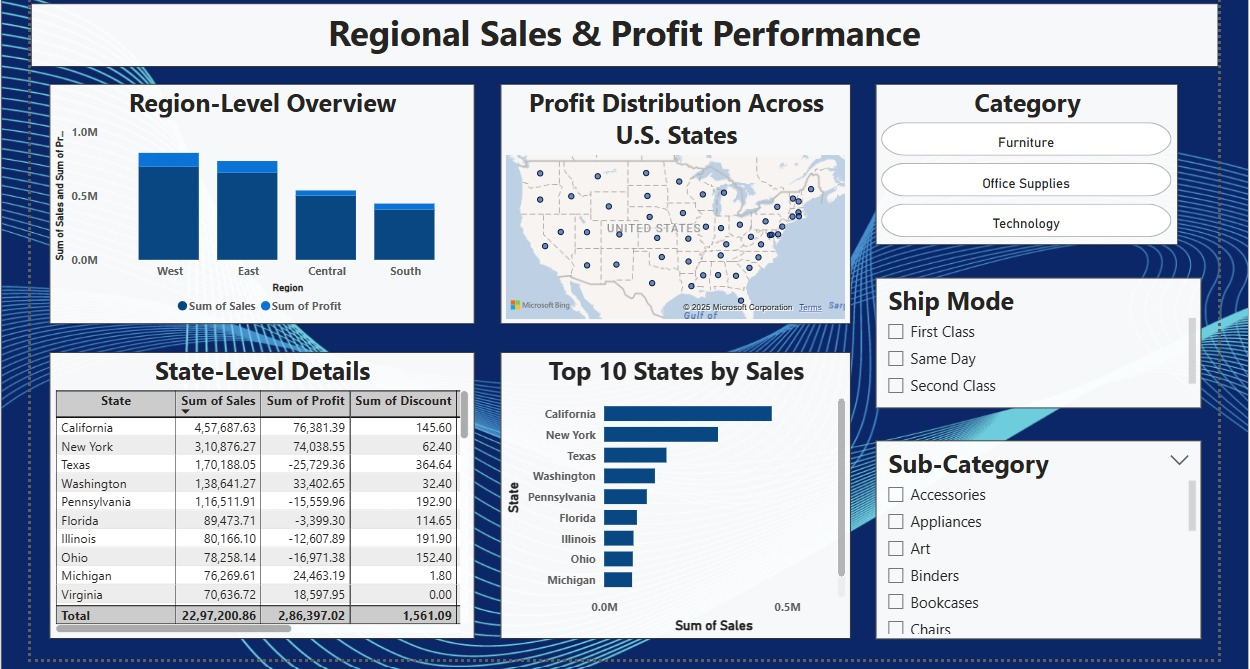

Layout of this report page (visuals, bound fields, positions):
{"tool":"powerbi","page":{"name":"Regional Sales & Profit Performance","canvas":[1280,720],"ordinal":2},"visuals":[{"type":"textbox","box":[0,13.4,1280,68.5],"z":0},{"type":"columnChart","title":"Region-Level Overview","fields":{"Category":["Sample - Superstore.Region"],"Y":["Sum(Sample - Superstore.Sales)","Sum(Sample - Superstore.Profit)"]},"box":[20.1,100.3,457.9,259],"z":1},{"type":"map","title":"Profit Distribution Across U.S. States","fields":{"Category":["Sample - Superstore.State"]},"box":[506.3,100.3,377.7,259],"z":2},{"type":"tableEx","title":"State-Level Details ","fields":{"Values":["Sample - Superstore.State","Sum(Sample - Superstore.Sales)","Sum(Sample - Superstore.Profit)","Sum(Sample - Superstore.Discount)","Sum(Sample - Superstore.Quantity)","Avg(Sample - Superstore.Shipping Duration)"]},"box":[20.1,389.4,457.9,309.1],"z":3},{"type":"barChart","title":"Top 10 States by Sales ","fields":{"Y":["Sum(Sample - Superstore.Sales)"],"Category":["Sample - Superstore.State"]},"box":[506.3,389.4,377.7,309.1],"z":4},{"type":"advancedSlicerVisual","fields":{"Values":["Sample - Superstore.Category"]},"box":[910.7,100.3,325.9,173.8],"z":5},{"type":"slicer","fields":{"Values":["Sample - Superstore.Sub-Category"]},"box":[910.7,484.6,350.9,213.9],"z":6},{"type":"slicer","fields":{"Values":["Sample - Superstore.Ship Mode"]},"box":[910.7,309.1,350.9,140.4],"z":7}]}

Visuals, with their boxes in screenshot pixels (x1, y1, x2, y2):
textbox: rect(33, 3, 1208, 65)
"Region-Level Overview" columnChart: rect(51, 82, 472, 320)
"Profit Distribution Across U.S. States" map: rect(498, 82, 844, 320)
"State-Level Details " tableEx: rect(51, 348, 472, 632)
"Top 10 States by Sales " barChart: rect(498, 348, 844, 632)
advancedSlicerVisual - Sample - Superstore.Category: rect(869, 82, 1168, 242)
slicer - Sample - Superstore.Sub-Category: rect(869, 435, 1191, 632)
slicer - Sample - Superstore.Ship Mode: rect(869, 274, 1191, 403)
